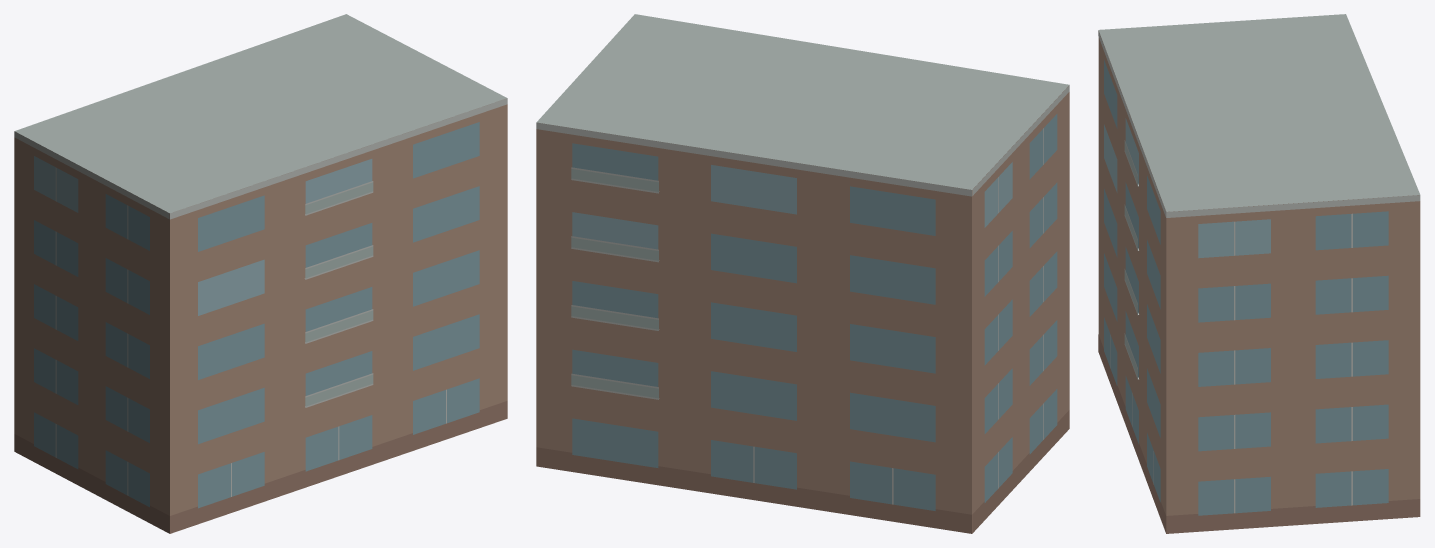
Rendered from survey-upis-32889386.glb.
The picture shows the model from 3 angles, left to right: view 1: azimuth 30°, elevation 25°; view 2: azimuth 150°, elevation 25°; view 3: azimuth 270°, elevation 25°; orthographic projection. The views are drawn at different scales.
Visible parts, largest first — view 1: survey-upis-32889386.tmp; view 2: survey-upis-32889386.tmp; view 3: survey-upis-32889386.tmp.
Part boxes in pixels (left/top/right/bottom): survey-upis-32889386.tmp: left=14, top=14, right=507, bottom=533; survey-upis-32889386.tmp: left=536, top=14, right=1069, bottom=533; survey-upis-32889386.tmp: left=1098, top=14, right=1420, bottom=533.
Bounding box in the file's own units: 16.75 × 12.7 × 11.52.
